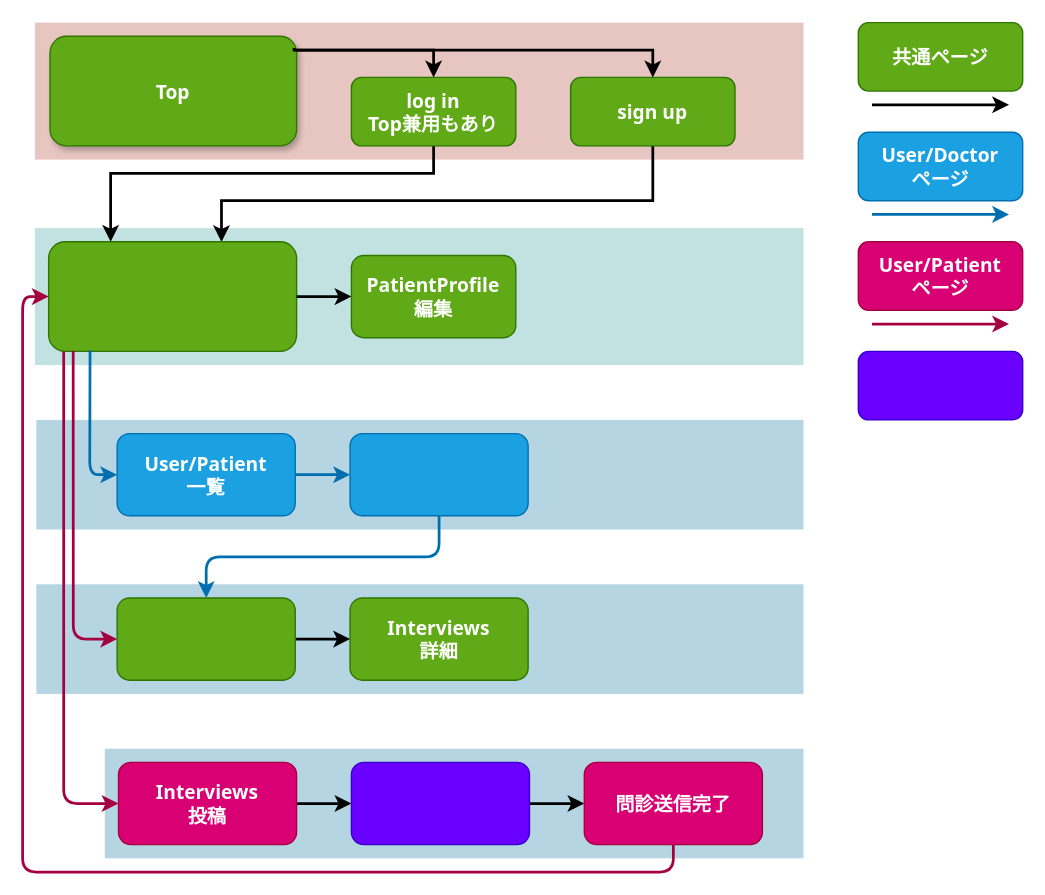
Image size: 1045x895. Some labels were removed from this diagram. Each missing label, with the centre of its shape:
Interviews 一覧×2: (205,638)
Interviews 入力内容確認: (440,803)
My_page: (172,295)
User/Patient モーダル: (940,385)
User/Patient 詳細: (438,474)
